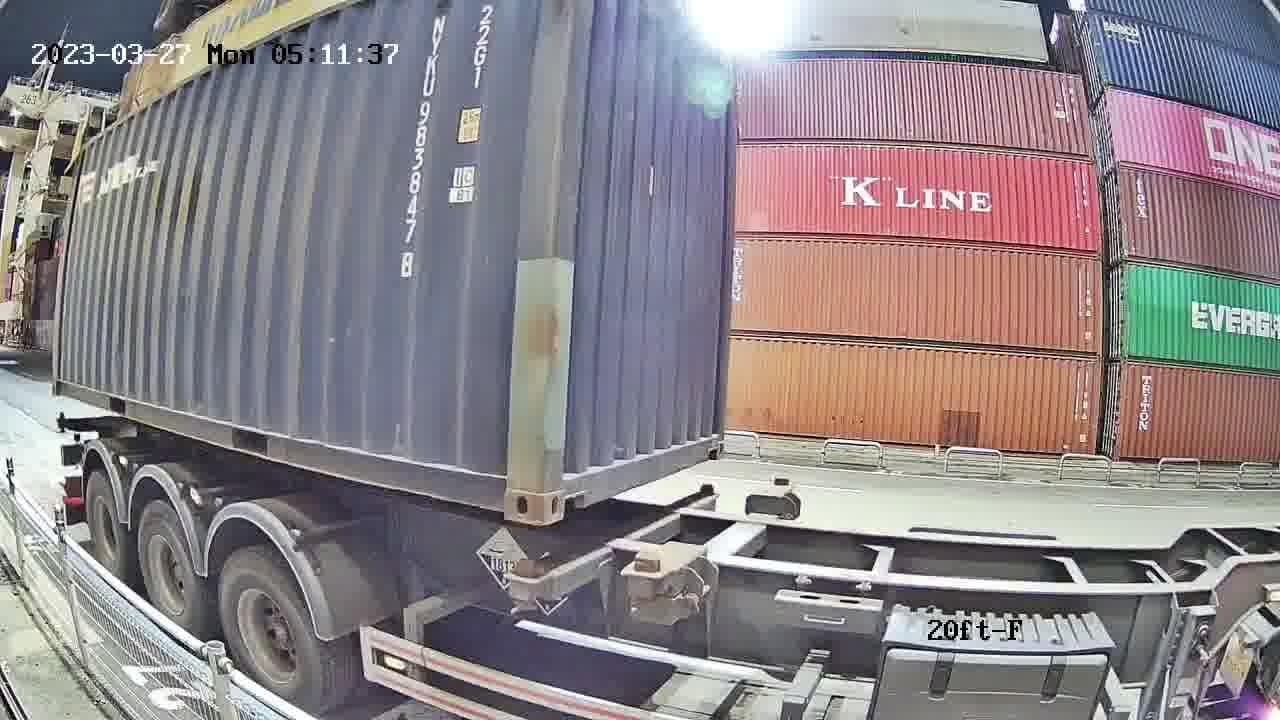Chassis: (507, 493, 717, 604)
Cone: (510, 558, 546, 620)
Hole_L: (538, 454, 592, 528)
Hole_R: (472, 457, 540, 527), (701, 414, 727, 462)
Tire: (218, 555, 318, 704), (137, 501, 202, 630), (84, 475, 127, 584), (697, 482, 717, 497)
